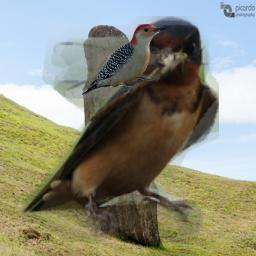Swallow: (21, 16, 219, 242)
Woodpecker: (82, 24, 170, 95)
